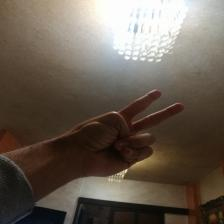two: (63, 87, 188, 179)
